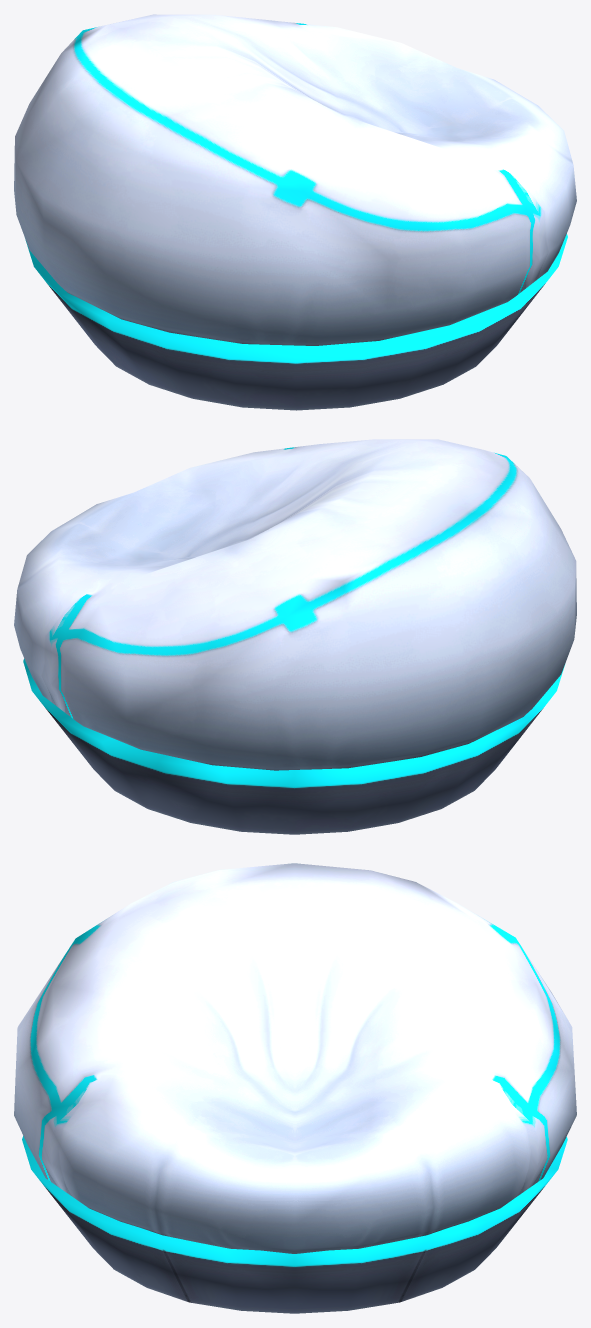
Rendered from obj_puffer.gltf.
The picture shows the model from 3 angles, top to bottom: view 1: azimuth 30°, elevation 25°; view 2: azimuth 150°, elevation 25°; view 3: azimuth 270°, elevation 25°; orthographic projection.
Parts seen in each view (by area): view 1: obj_puffer; view 2: obj_puffer; view 3: obj_puffer.
Boxes of the visible parts, x1,y1,x2,y2 form: obj_puffer: (14, 14, 576, 410); obj_puffer: (14, 439, 576, 834); obj_puffer: (14, 863, 576, 1313).
Size of what is drawn, in the model's own units: 1.68 by 0.9068 by 1.63.
1 material, 1 textured.
